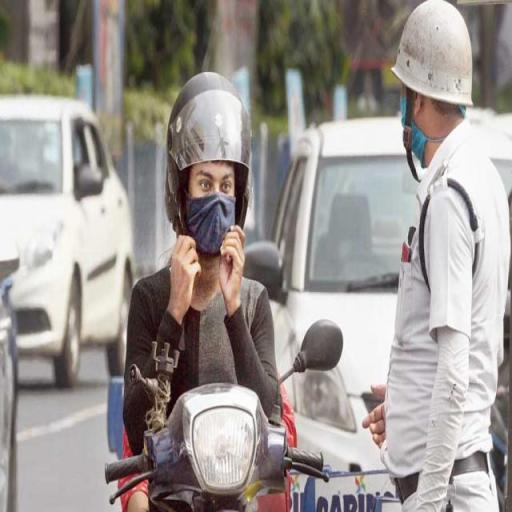Helmet: (170, 74, 257, 266), (386, 6, 488, 116)
Motor: (102, 384, 328, 512)
